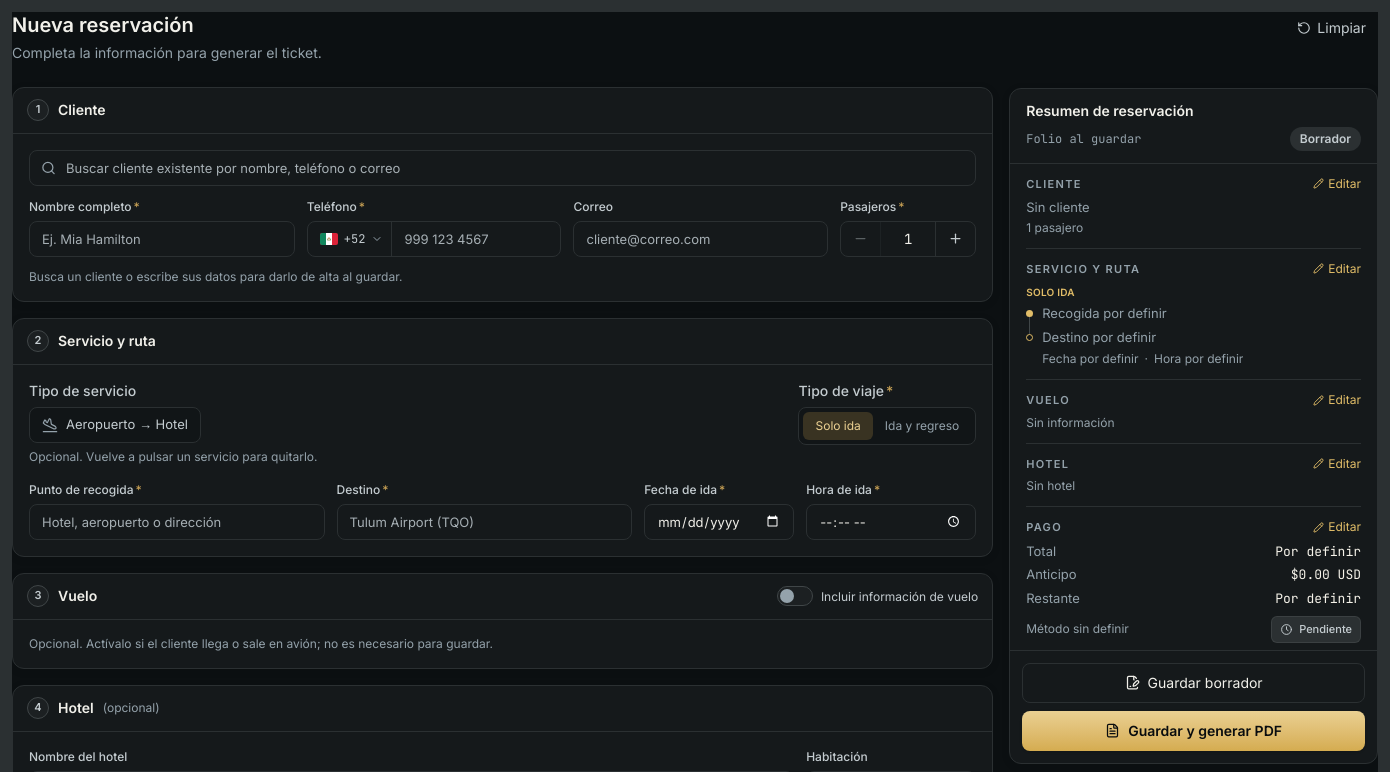
Test: Nueva reservación en una sola página › selecciona un cliente existente y conserva su prefijo telefónico
Type "Mia" into the dropdown labelled "Buscar cliente existente" at [503, 168], box [29,150,976,186]
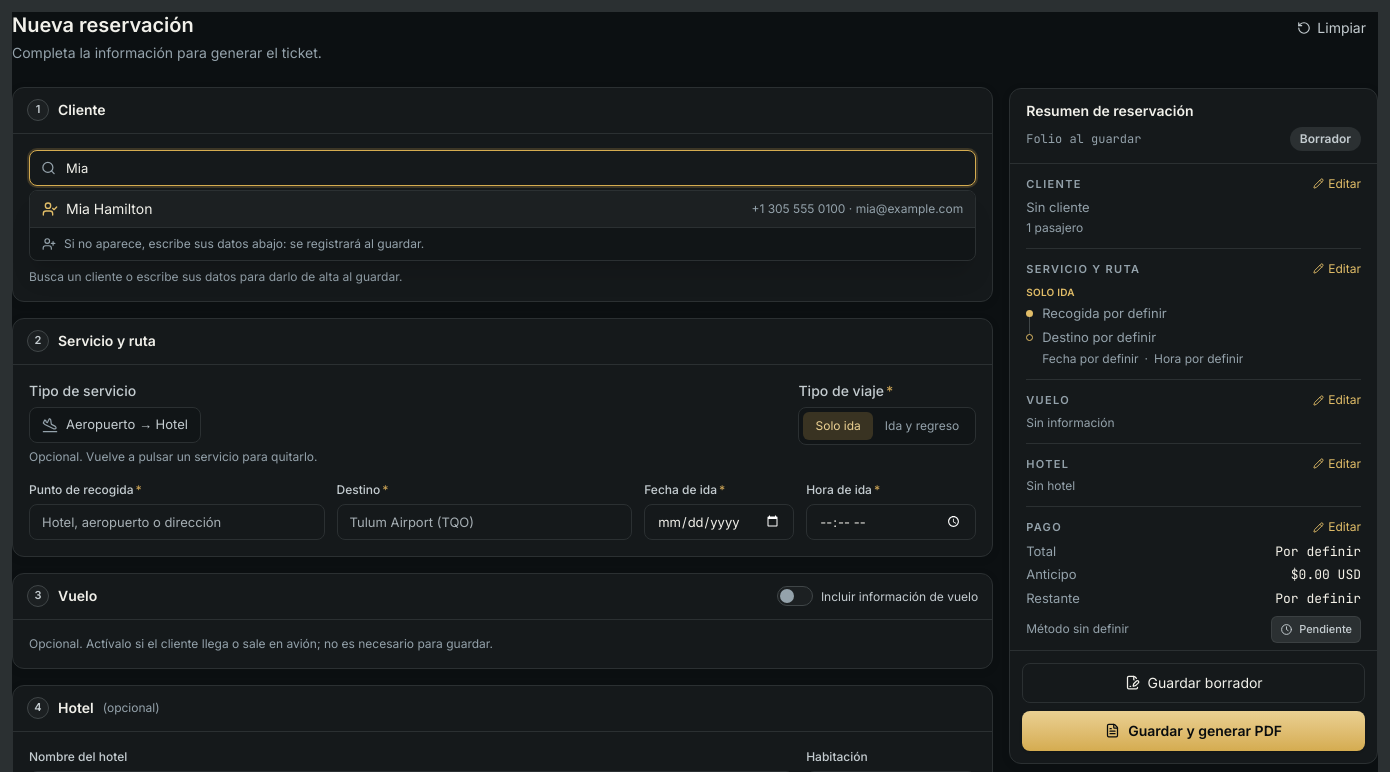
Click the option "Mia Hamilton +1 305 555 0100 · mia@example.com" at [109, 208], box [30,191,975,227]
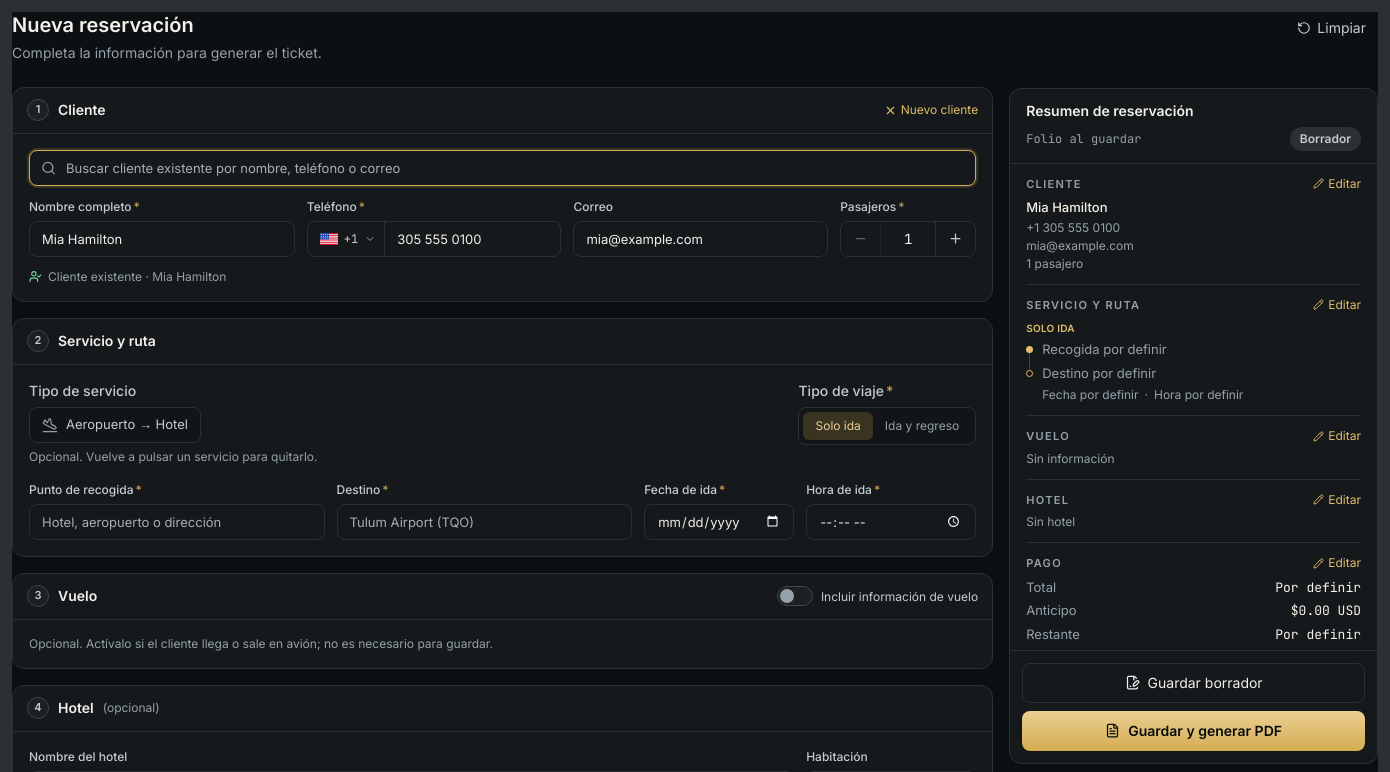
Expected: the text "+1 305 555 0100" is shown, [1026,220,1120,235]
Expected: the field labelled "Nombre completo*" holds "Mia Hamilton", [29,221,295,257]
Expected: the text "Cliente existente · Mia Hamilton" is shown, [29,269,226,284]
